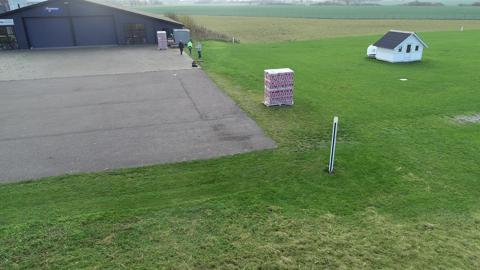RockwoolPallet: (156, 30, 168, 50)
